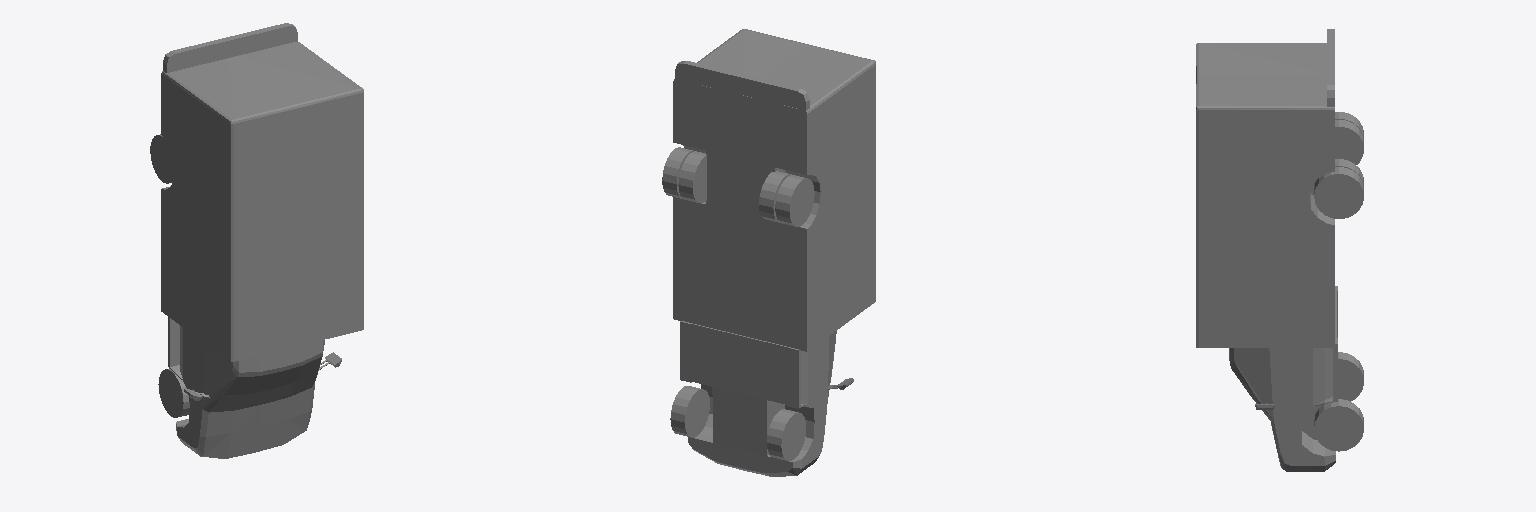
Rendered from ambulance.obj.
3 renders of one model, left to right at view 1: azimuth 30°, elevation 25°; view 2: azimuth 150°, elevation 25°; view 3: azimuth 270°, elevation 25°, orthographic.
Visible parts, largest first — view 1: Ambulance, Wheel_Front_Right, Wheels_Rear; view 2: Ambulance, Wheels_Rear, Wheel_Front_Left, Wheel_Front_Right; view 3: Ambulance, Wheels_Rear, Wheel_Front_Left, Wheel_Front_Right.
Part boxes in pixels (x1,y1,x2,y2): Ambulance: (161, 23, 363, 458); Wheel_Front_Right: (158, 368, 189, 417); Wheels_Rear: (150, 134, 174, 183); Ambulance: (673, 29, 875, 476); Wheels_Rear: (662, 147, 814, 226); Wheel_Front_Left: (670, 386, 709, 437); Wheel_Front_Right: (767, 409, 805, 460); Ambulance: (1196, 29, 1337, 471); Wheels_Rear: (1314, 112, 1363, 218); Wheel_Front_Left: (1314, 399, 1363, 451); Wheel_Front_Right: (1338, 352, 1363, 401).
Bounding box in the file's own units: 117 × 297 × 114.